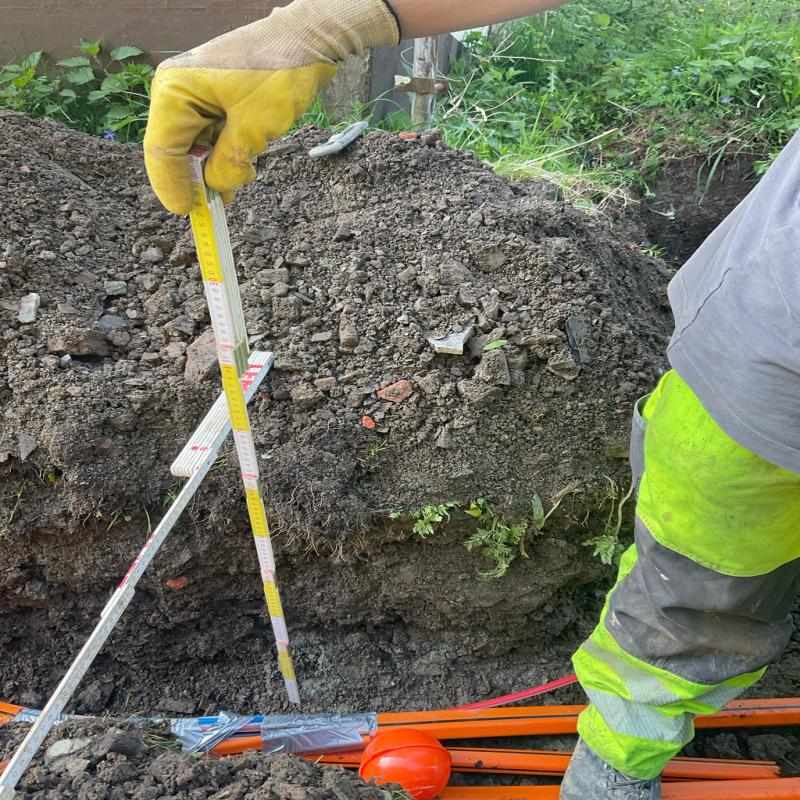Kugelmarker: (356, 728, 452, 800)
Orang-Speednetrohrchen: (250, 706, 582, 800), (666, 763, 800, 800), (697, 699, 799, 729)
